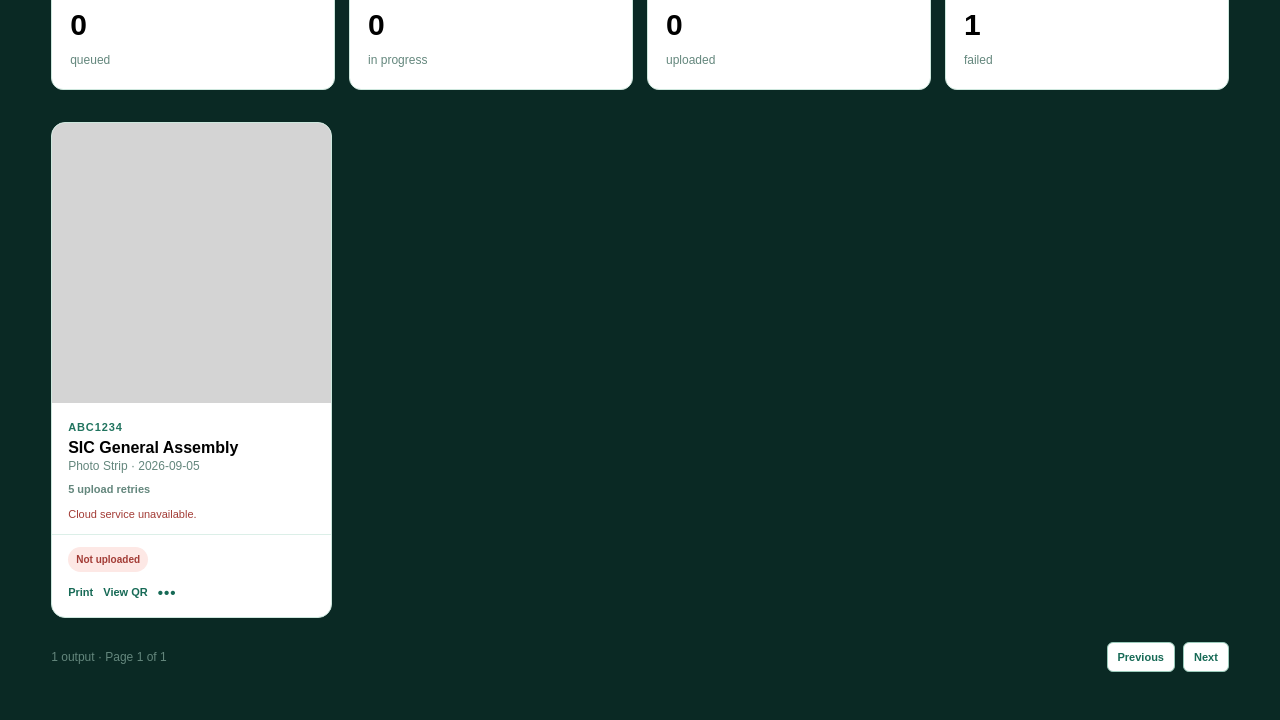
Scenario: PublicationDashboard › shows failed jobs and requeues one after a successful retry
(page scrolled)
Expected: the text "AbC1234" is shown, [68, 420, 123, 432]
Click the heading named "More actions for AbC1234".
click(167, 592)  # box [158, 586, 176, 598]
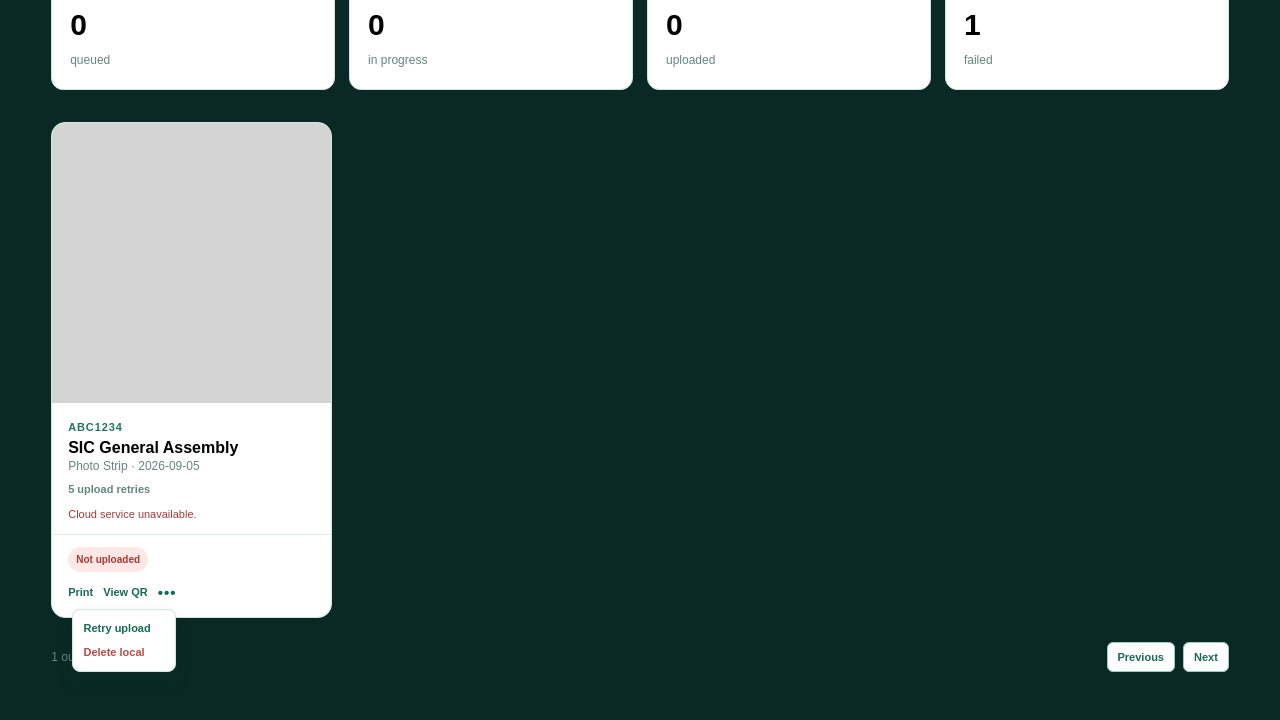
Click the button "Retry upload".
click(124, 628)  # box [84, 620, 166, 636]
(page scrolled)
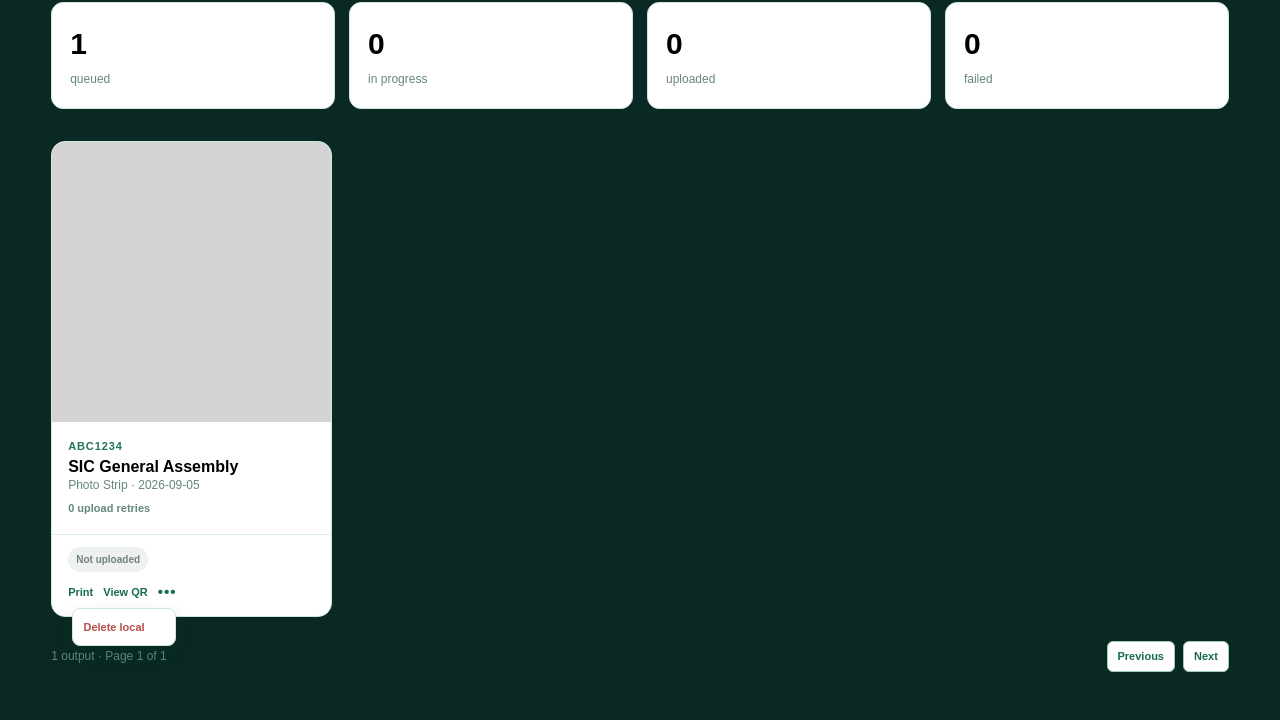
Expected: the text "Not uploaded" is shown once, [68, 546, 148, 572]
Expected: the button "Retry upload" is gone
